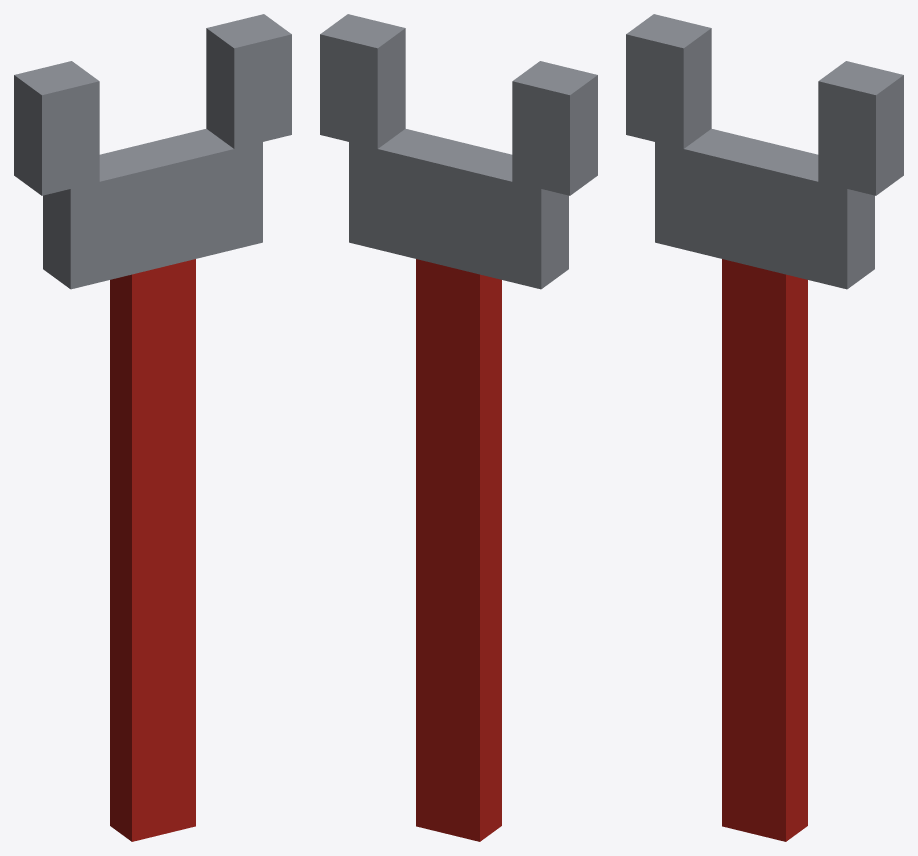
File: red_wrench.glb
The picture shows the model from 3 angles, left to right: view 1: azimuth 30°, elevation 25°; view 2: azimuth 150°, elevation 25°; view 3: azimuth 330°, elevation 25°; orthographic projection.
Parts seen in each view (by area): view 1: red_wrench_v0; view 2: red_wrench_v0; view 3: red_wrench_v0.
Part boxes in pixels (<box>): red_wrench_v0: <box>14,14,291,841</box>; red_wrench_v0: <box>320,14,597,841</box>; red_wrench_v0: <box>626,14,903,841</box>.
Size of the model in its own units: 0.156 by 0.46 by 0.03.
